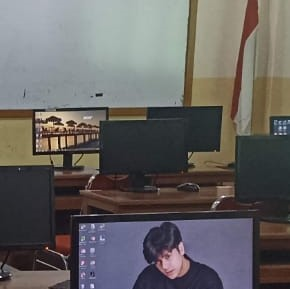monitor: (1, 1, 193, 113), (69, 209, 260, 286), (99, 118, 189, 175), (0, 164, 56, 251), (32, 107, 109, 157), (234, 135, 290, 203), (146, 106, 223, 153), (269, 116, 290, 136)
